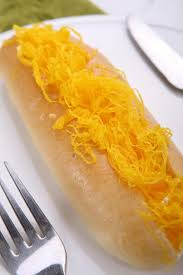foitong: (45, 55, 158, 173), (112, 137, 183, 230), (17, 29, 81, 86)
